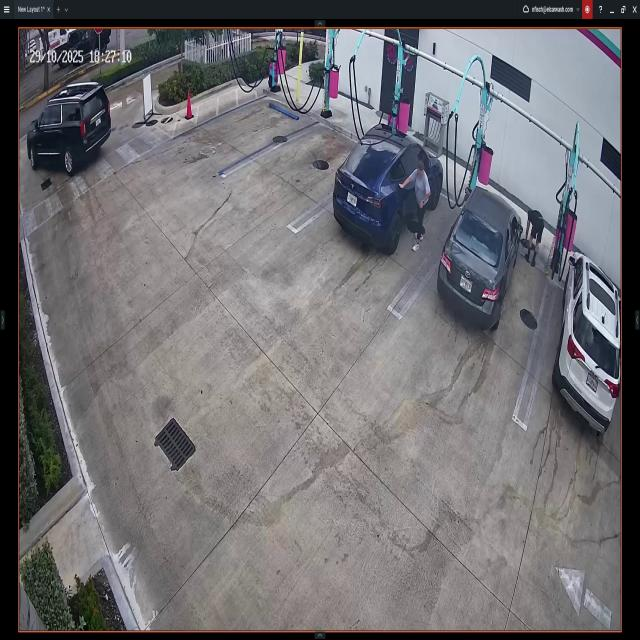Car: (332, 124, 443, 250), (440, 187, 520, 330), (556, 253, 619, 434), (28, 79, 111, 172)
